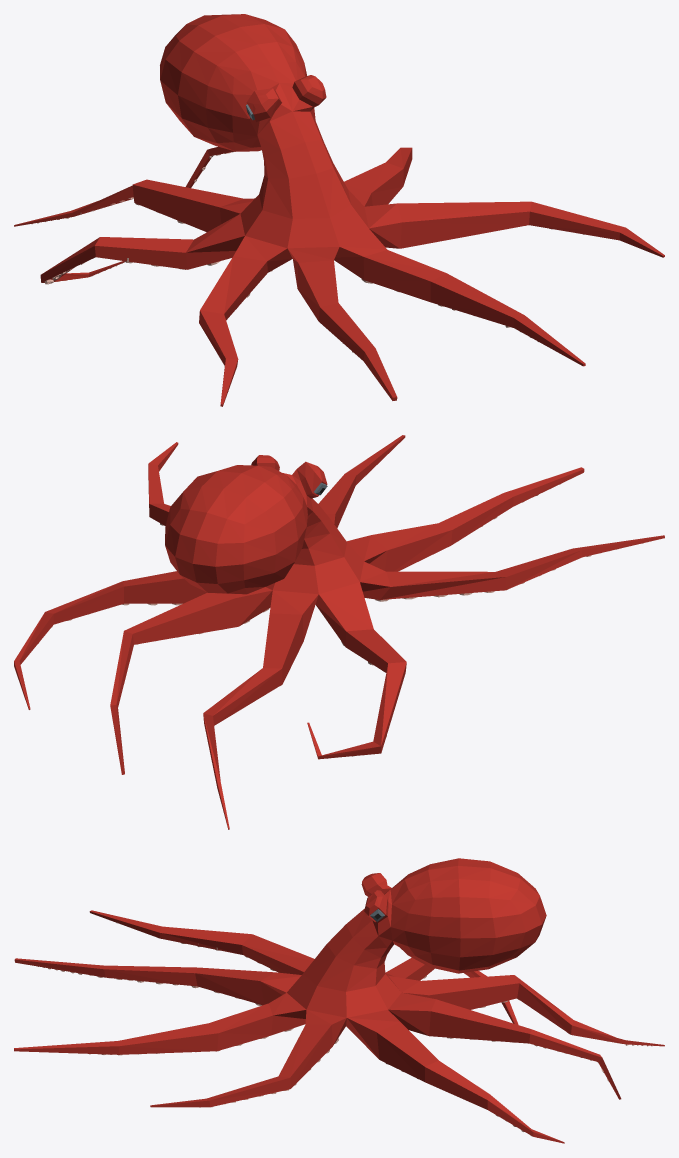
The model's file is 5d91eb7b-d7d7-450d-aed3-00326fbb4820.glb.
3 views of the same model, one above another, from view 1: azimuth 30°, elevation 25°; view 2: azimuth 150°, elevation 25°; view 3: azimuth 270°, elevation 25° (orthographic). The views are drawn at different scales.
Parts seen in each view (by area): view 1: Node; view 2: Node; view 3: Node.
Part boxes in pixels (left/top/right/bottom): Node: left=14, top=14, right=664, bottom=406; Node: left=14, top=435, right=664, bottom=829; Node: left=14, top=858, right=664, bottom=1143.
Size of the model in its own units: 3.98 by 2.07 by 5.43.
